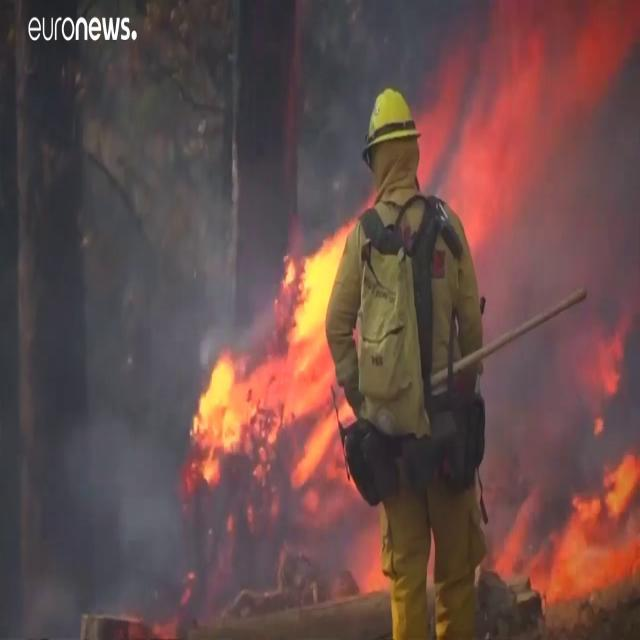Fire: (178, 210, 362, 534), (416, 0, 640, 260), (485, 310, 640, 609), (112, 570, 195, 640), (359, 524, 391, 600)
Smoke: (59, 184, 205, 614), (488, 110, 640, 482), (198, 209, 280, 367)
